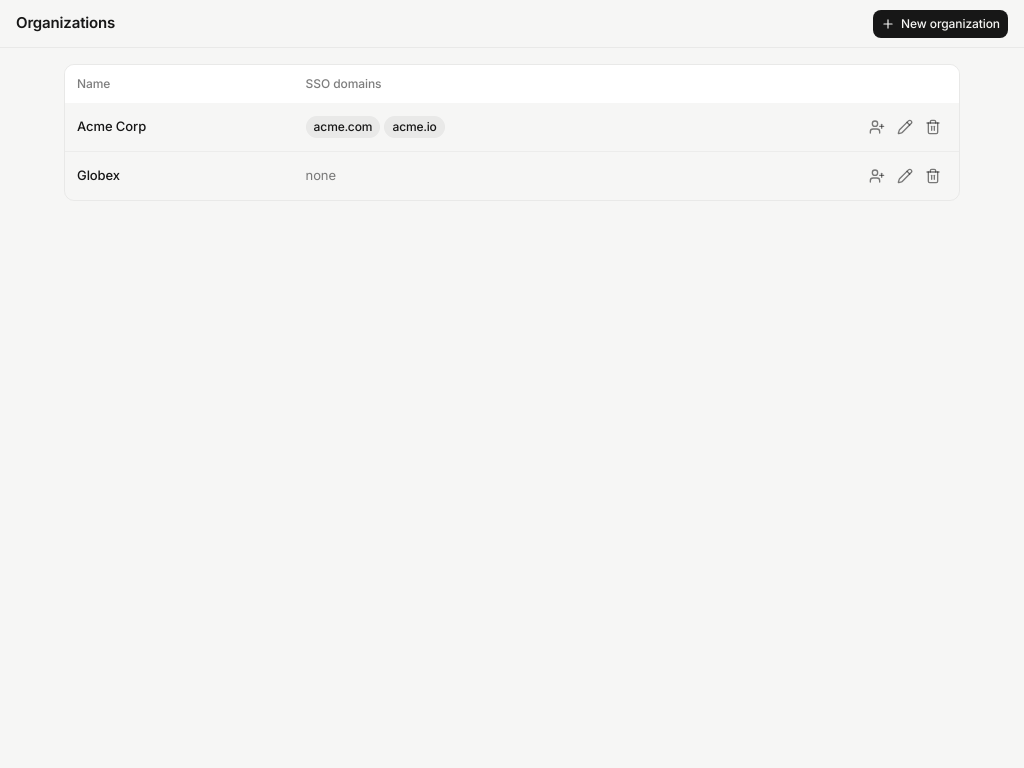
Test case: "Invite admin" opens the invite dialog pre-set to that org + admin role
Click the button named "invite admin to globex" at (877, 176), box [863, 162, 891, 190]
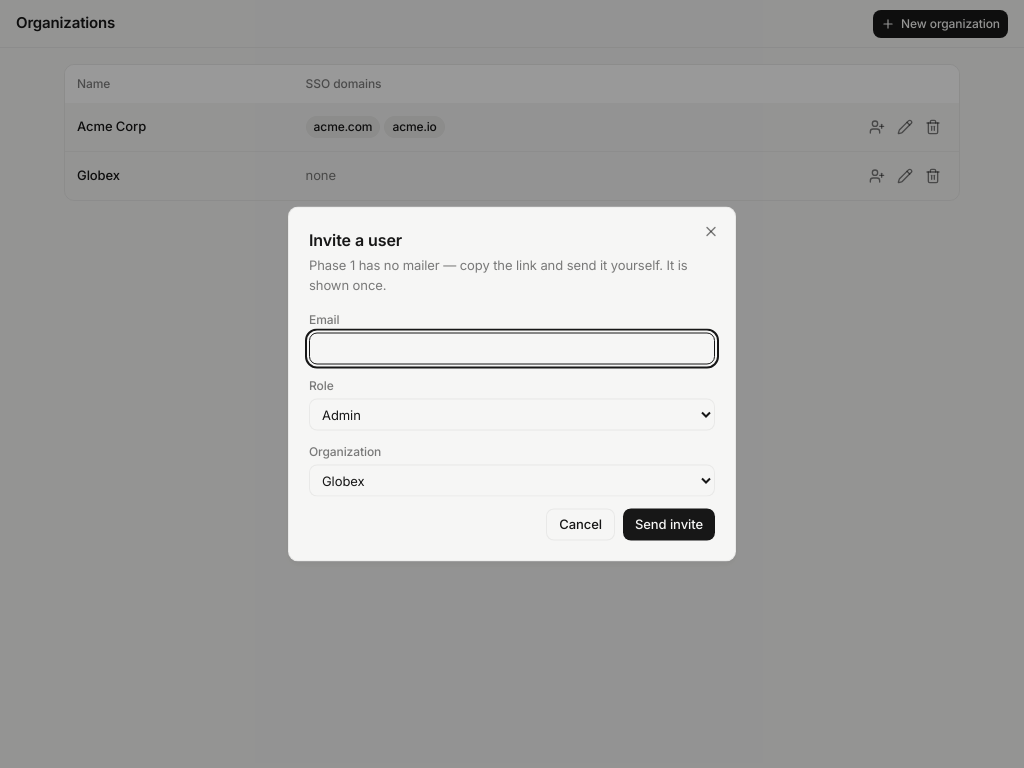
Expected: the heading "Invite a user" is shown, [309, 230, 402, 250]
Expected: the dropdown labelled "Role" shows "Admin", [309, 398, 715, 430]
Expected: the dropdown labelled "Organization" shows "Globex", [309, 464, 715, 496]
